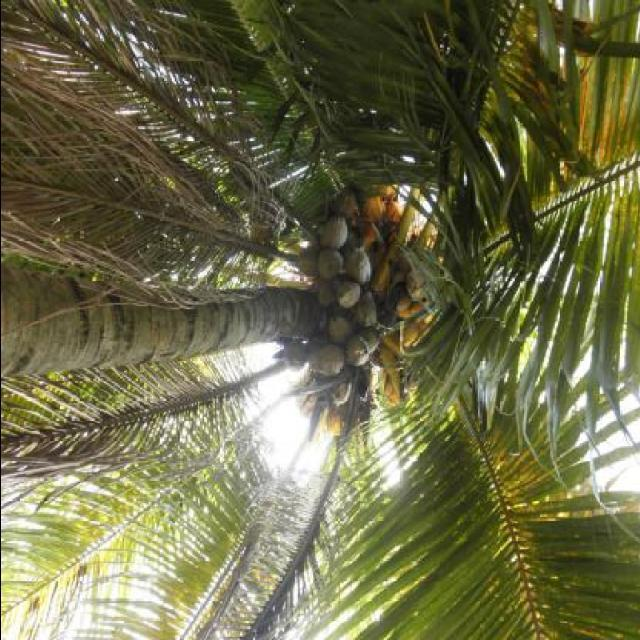Coconut: (288, 188, 441, 406)
